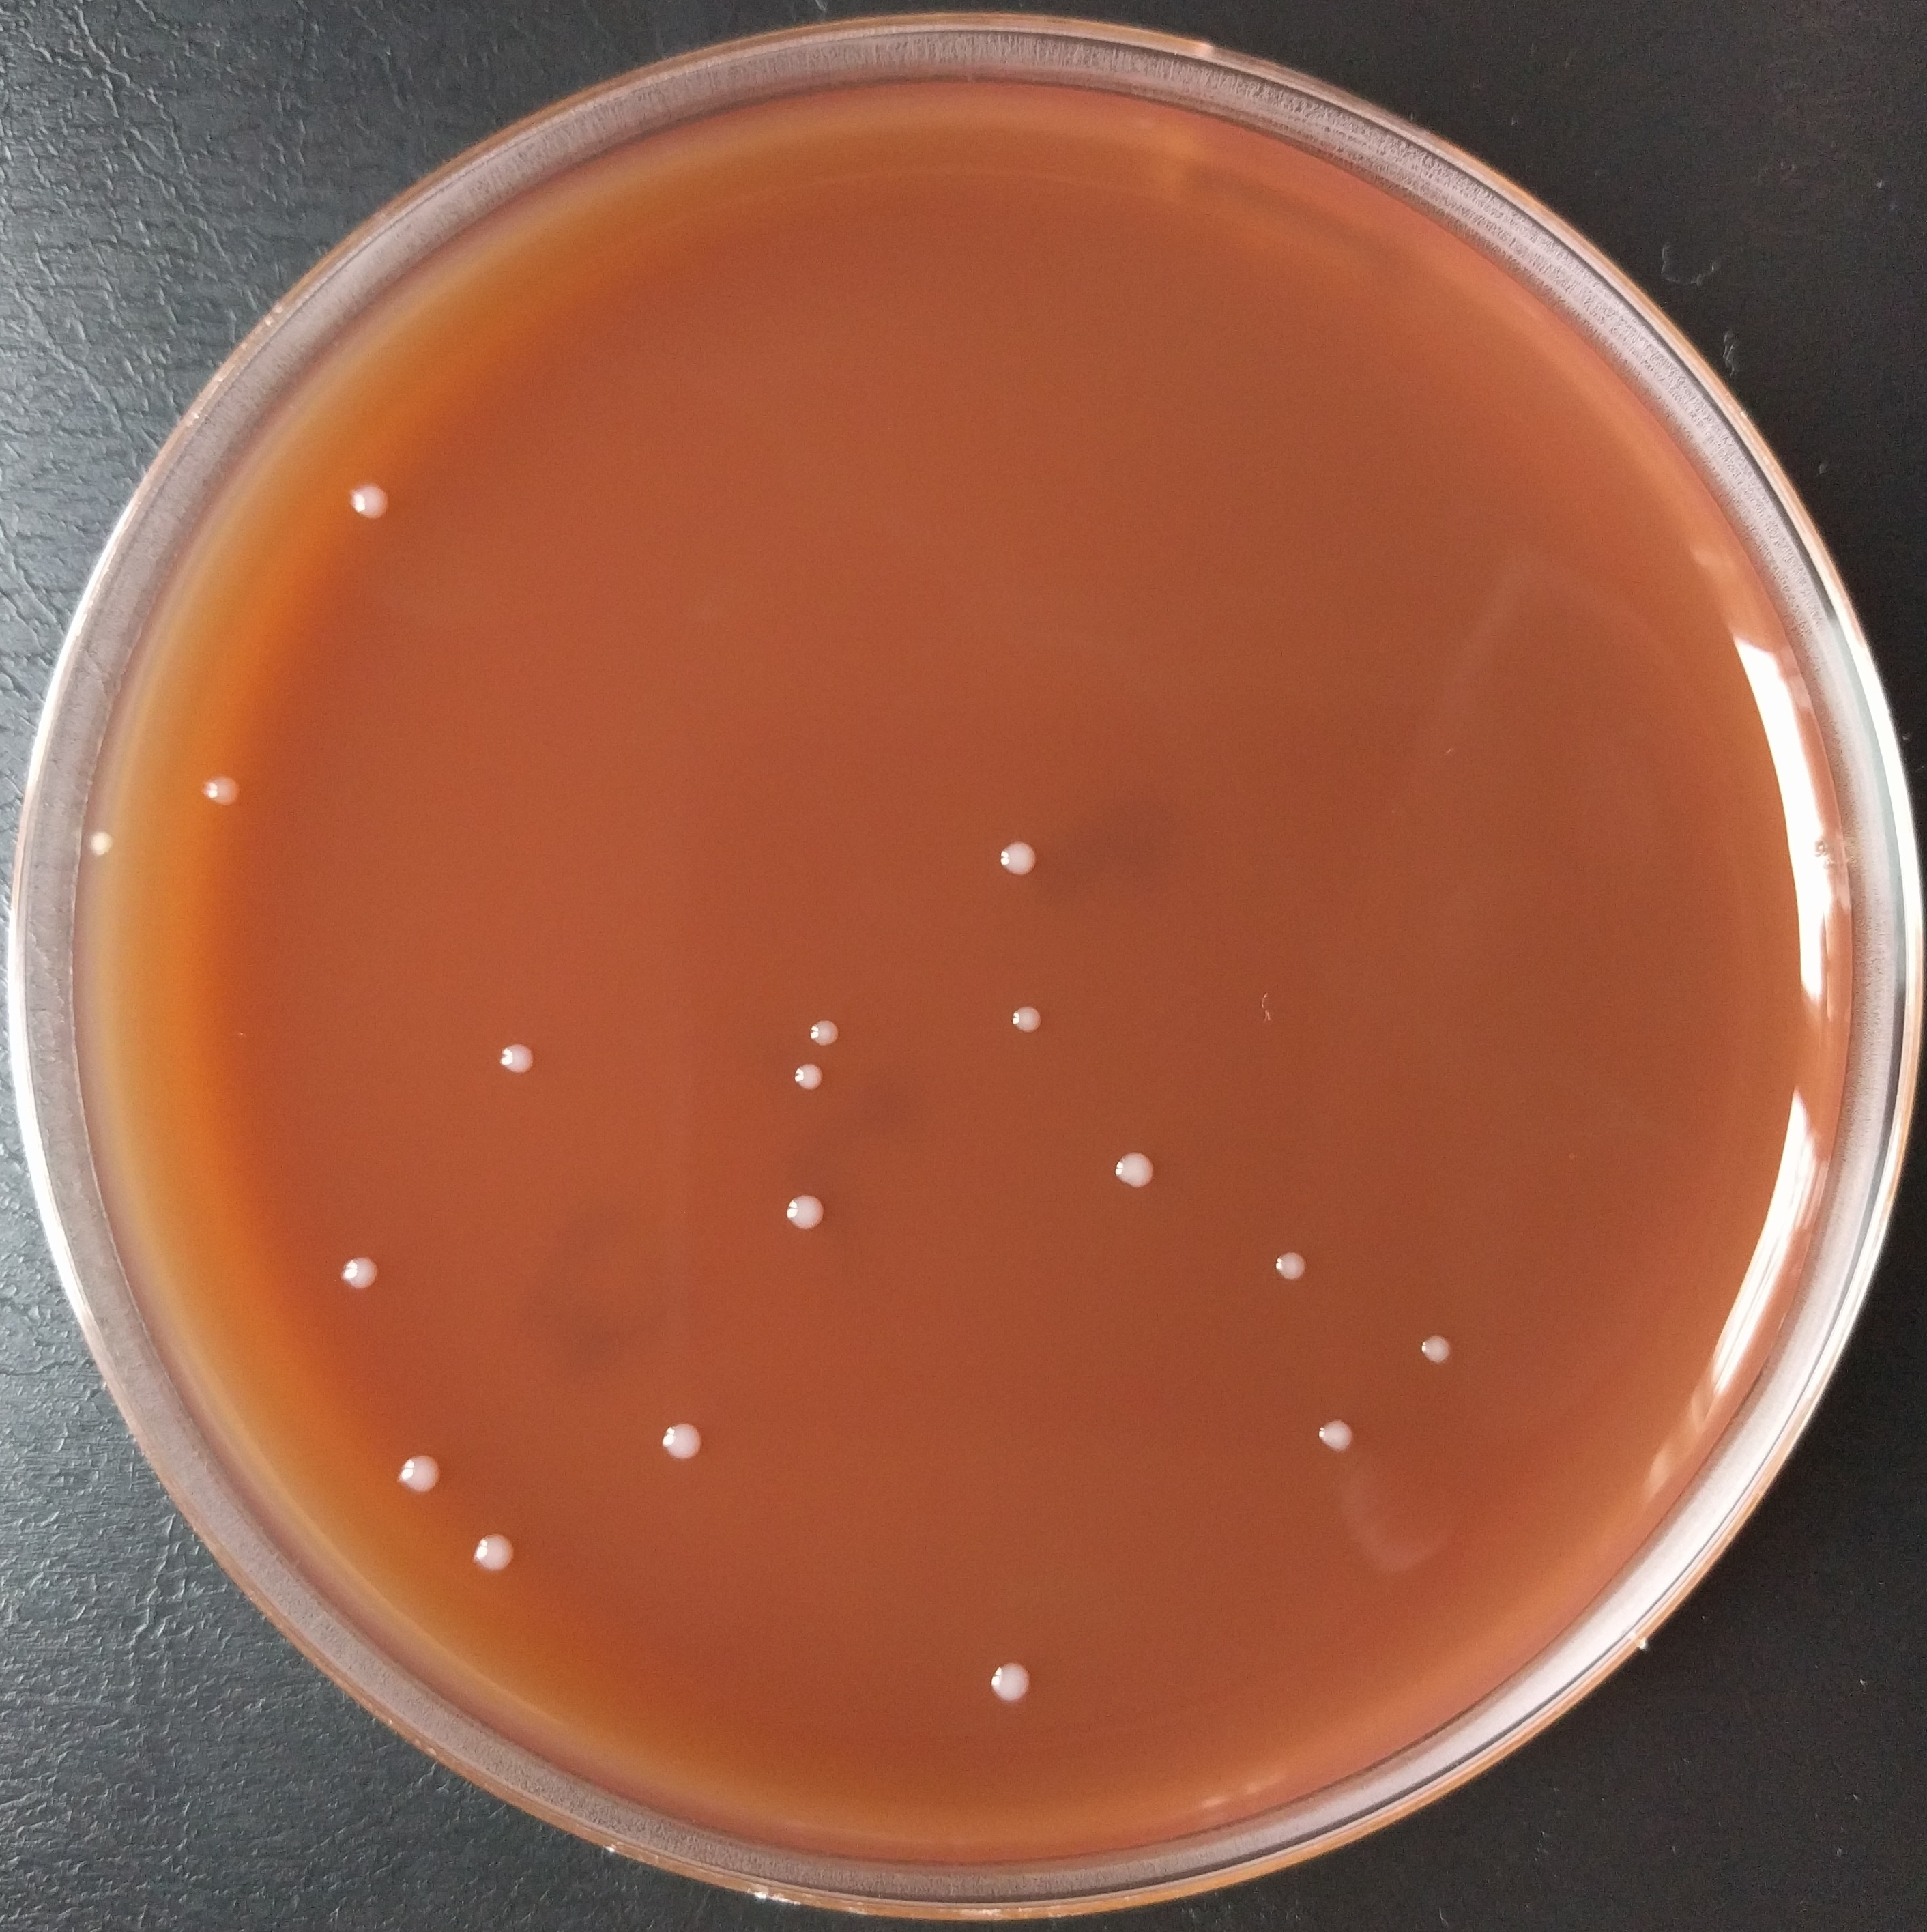sp16: (653, 1408, 709, 1480), (979, 1659, 1038, 1715), (462, 1524, 522, 1579), (782, 1180, 835, 1242), (344, 471, 397, 531), (1263, 1237, 1316, 1293), (334, 1246, 385, 1304), (1315, 1408, 1368, 1463), (390, 1443, 446, 1493), (489, 1034, 545, 1082), (1108, 1147, 1168, 1191), (1403, 1327, 1465, 1367), (801, 1007, 858, 1052), (993, 831, 1046, 877), (192, 764, 240, 812), (785, 1057, 829, 1097), (1002, 1000, 1048, 1036), (88, 826, 120, 859)
